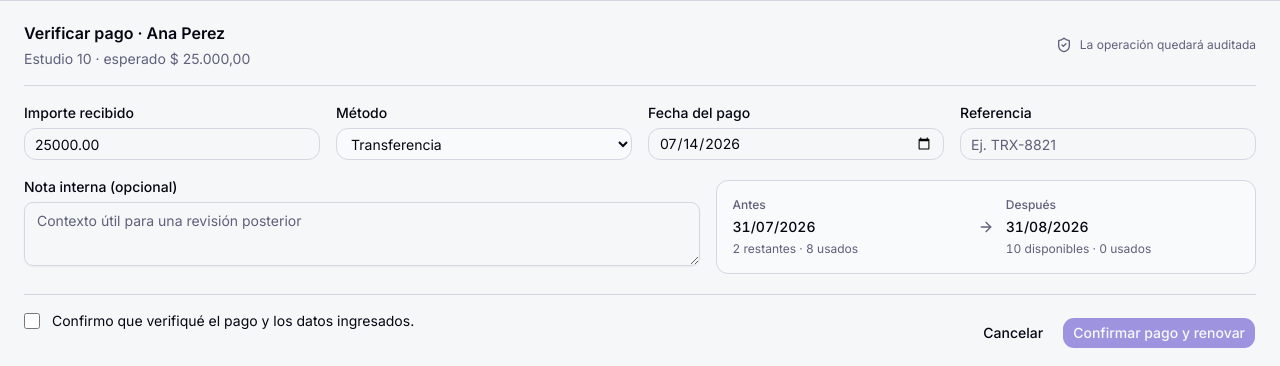
Test case: RenewalReviewRow › conserva el resultado visible hasta que el operador continua
The width and height of the screenshot is (1280, 366).
In the field labelled "Referencia": (1108, 144) top-left (960, 128), bottom-right (1256, 160), type "TRX-9001"
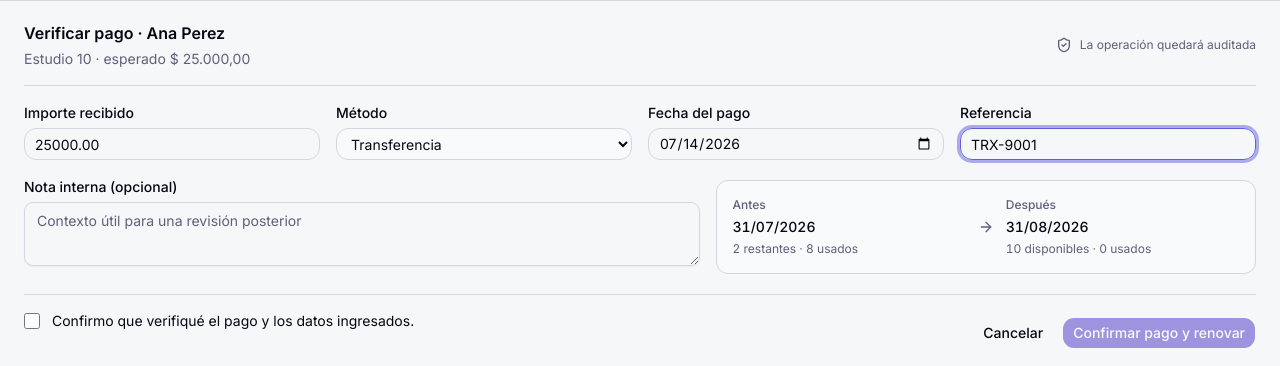
Click the checkbox labelled "Confirmo que verifiqué el pago y los datos ingresados.": (32, 321) top-left (24, 313), bottom-right (40, 329)
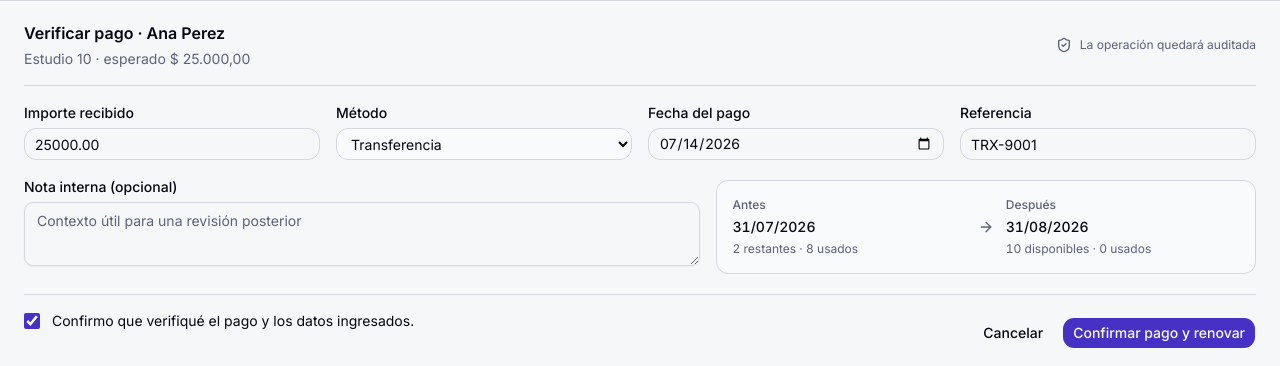
Click the button "Confirmar pago y renovar": (1159, 333) top-left (1062, 317), bottom-right (1256, 349)
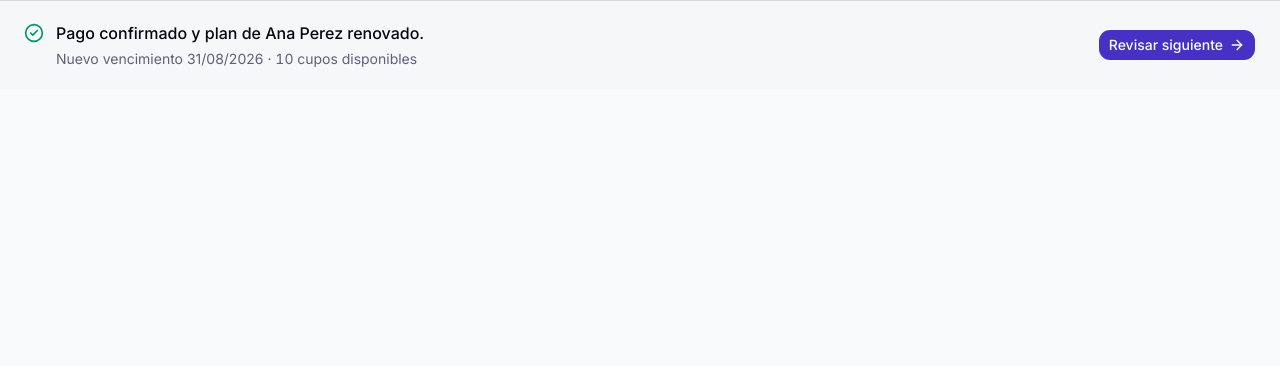
Expected: the text "Pago confirmado y plan de Ana Perez renovado." is shown, top-left (56, 21), bottom-right (424, 45)
Expected: the button "Revisar siguiente" is shown, top-left (1098, 29), bottom-right (1256, 61)
